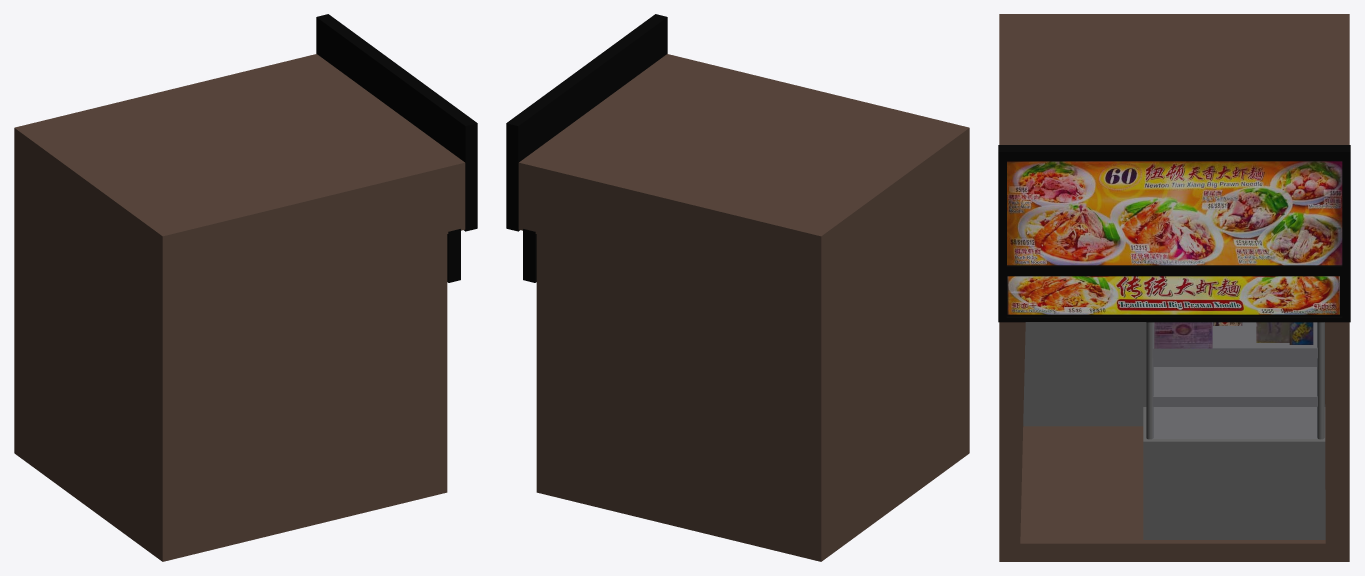
The model's file is TianXiang_Big_PrawnNoodle.fbx.
The picture shows the model from 3 angles, left to right: view 1: azimuth 30°, elevation 25°; view 2: azimuth 150°, elevation 25°; view 3: azimuth 270°, elevation 25°; orthographic projection. The views are drawn at different scales.
Visible parts, largest first — view 1: Cube.017; view 2: Cube.017; view 3: Cube.017.
Part boxes in pixels (left/top/right/bottom): Cube.017: left=14, top=14, right=477, bottom=561; Cube.017: left=506, top=14, right=969, bottom=561; Cube.017: left=998, top=14, right=1350, bottom=561.
Size of the model in its own units: 5.2 by 5.72 by 4.27.
